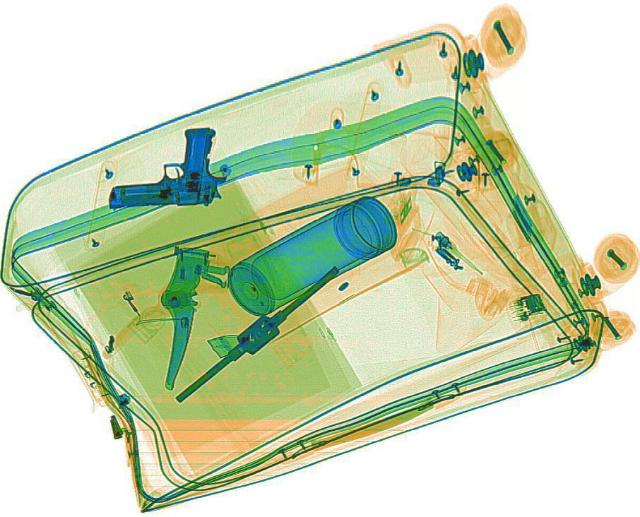Gun: (101, 126, 231, 208)
